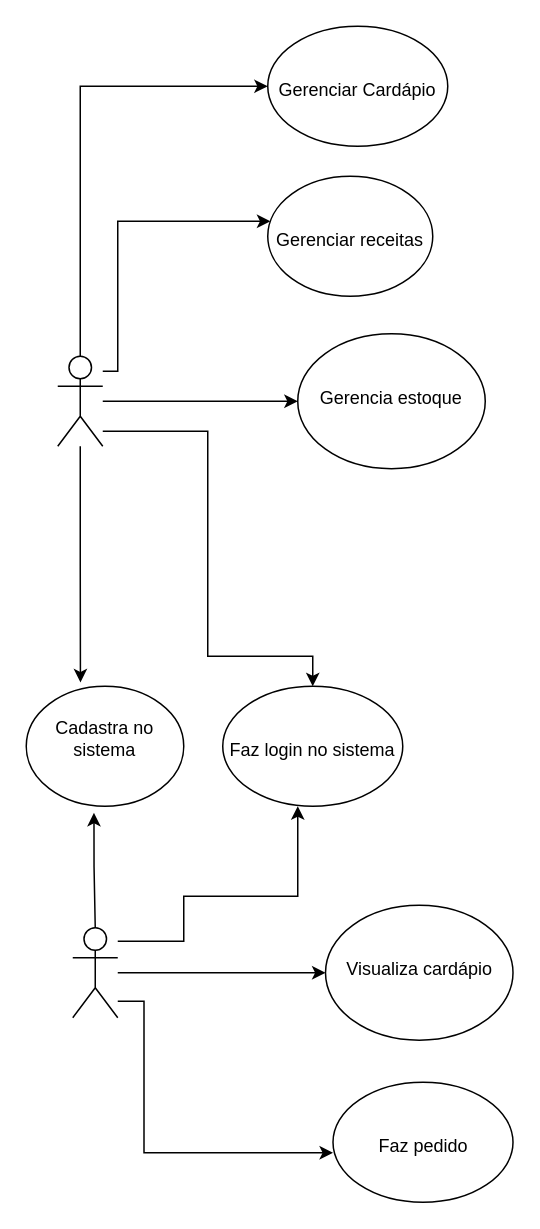
This 540x1229 diagram has some shape labels left out. Here are the shapes that lost their labels. From the top down, the centre of each, then its label:
pixel 79 400: Admin
pixel 94 972: Cliente
